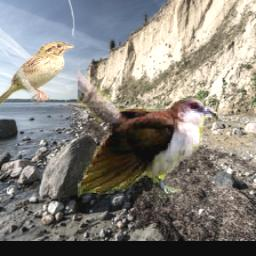Cuckoo: (79, 29, 219, 200)
Sparrow: (0, 41, 74, 110)
